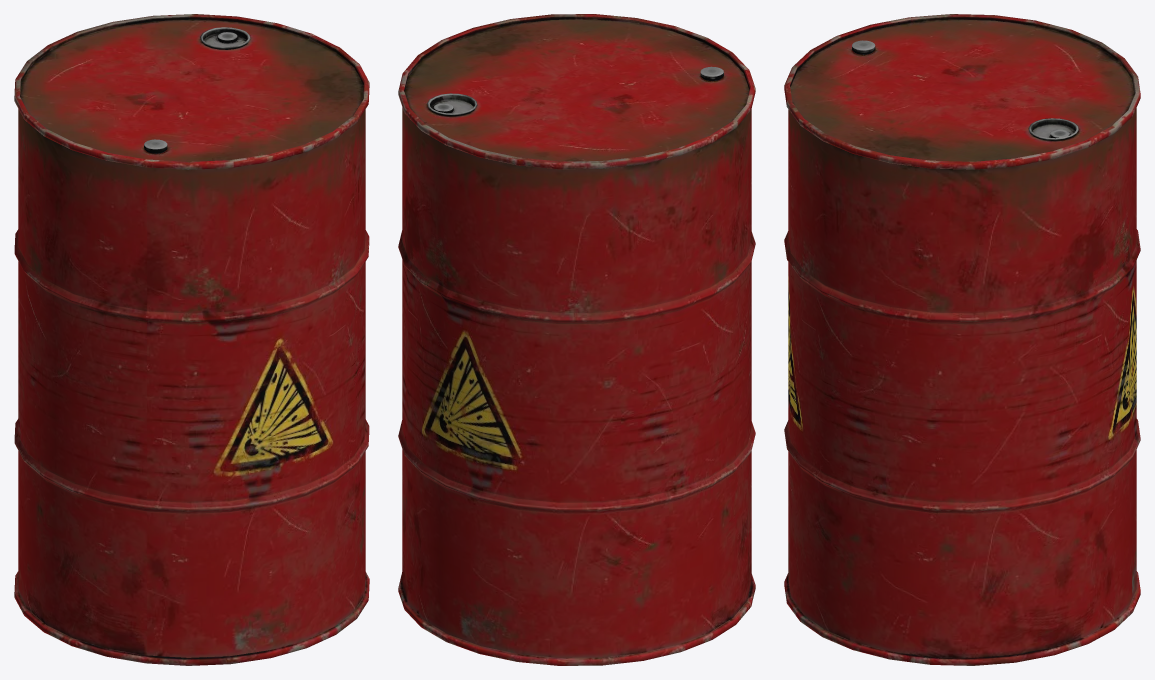
File: Barrel_01.glb
The picture shows the model from 3 angles, left to right: view 1: azimuth 30°, elevation 25°; view 2: azimuth 150°, elevation 25°; view 3: azimuth 270°, elevation 25°; orthographic projection.
Visible parts, largest first — view 1: Barrel_01; view 2: Barrel_01; view 3: Barrel_01.
Part boxes in pixels (x1,y1,x2,y2): Barrel_01: [14, 14, 369, 665]; Barrel_01: [398, 14, 755, 665]; Barrel_01: [784, 14, 1140, 665].
Bounding box in the file's own units: 0.5631 × 0.88 × 0.5631.
Materials: 1 (1 with a texture image).
